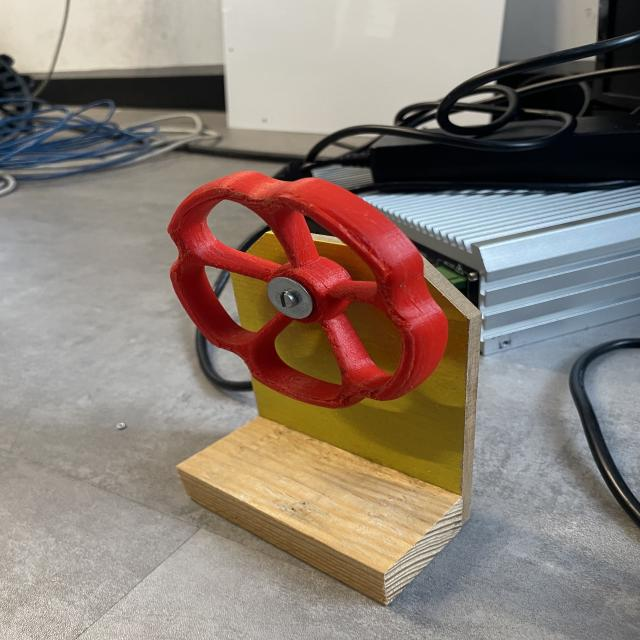Wheel Handle Valve Threaded: (167, 169, 450, 410)
